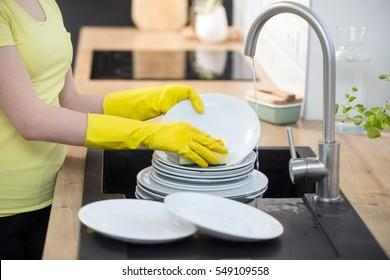gloves: (84, 112, 228, 170), (102, 84, 206, 121)
